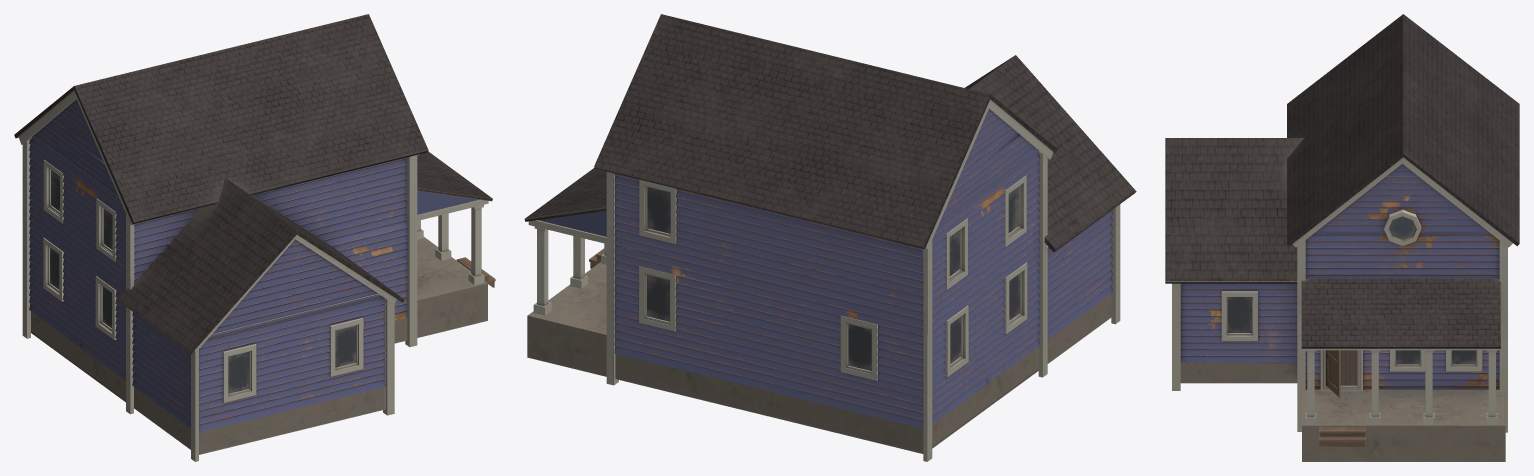
Rendered from blue_gable_house.glb.
3 views of the same model, side by side, from view 1: azimuth 30°, elevation 25°; view 2: azimuth 150°, elevation 25°; view 3: azimuth 270°, elevation 25° (orthographic). The views are drawn at different scales.
Visible parts, largest first — view 1: blue_gable_house; view 2: blue_gable_house; view 3: blue_gable_house.
Part boxes in pixels (<box>): blue_gable_house: <box>14,14,495,461</box>; blue_gable_house: <box>524,14,1136,461</box>; blue_gable_house: <box>1165,14,1519,461</box>.
Size of the model in its own units: 9.84 by 7.06 by 8.06.
Materials: 5 (5 with a texture image).
